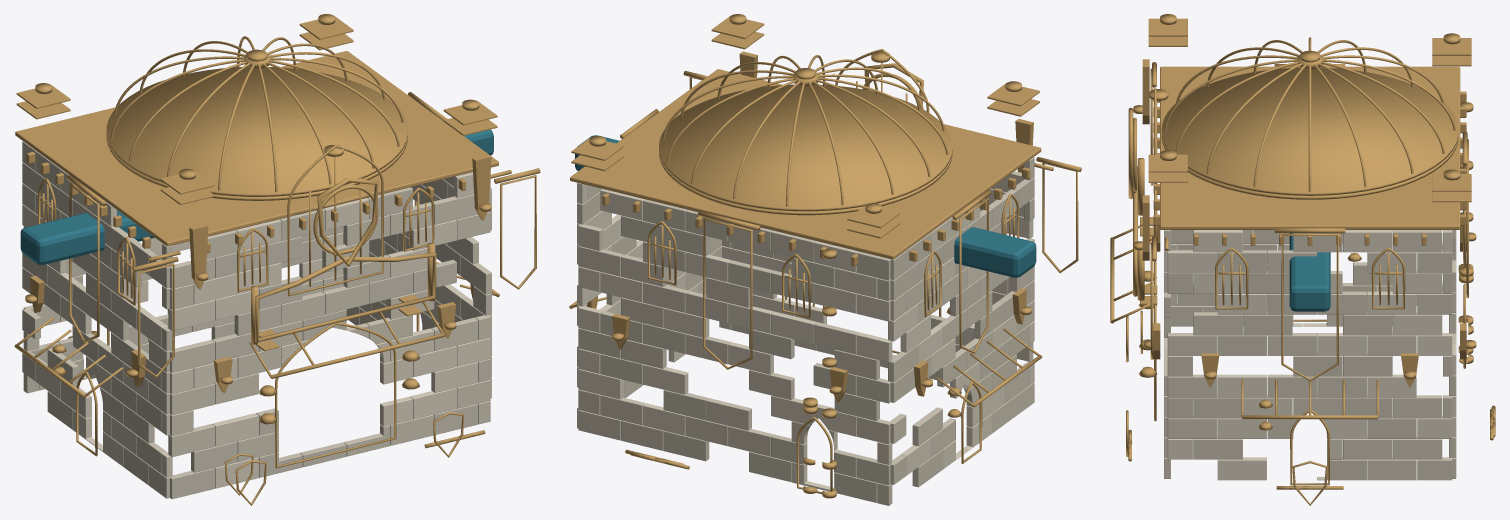
Rendered from Catalog-10.glb.
3 renders of one model, left to right at view 1: azimuth 30°, elevation 25°; view 2: azimuth 150°, elevation 25°; view 3: azimuth 270°, elevation 25°, orthographic. The views are drawn at different scales.
Parts seen in each view (by area): view 1: Aged Gold (×3), Limestone Block Tone 2, Limestone Block Tone 4, Limestone Block Tone 1, Teal Enamel Roof; view 2: Aged Gold (×3), Limestone Block Tone 2, Limestone Block Tone 1, Limestone Block Tone 4, Teal Enamel Roof; view 3: Aged Gold (×3), Limestone Block Tone 2, Limestone Block Tone 4, Limestone Block Tone 1, Teal Enamel Roof.
Boxes of the visible parts, left/top/right/bottom form: Aged Gold (×3): left=14, top=14, right=540, bottom=505; Limestone Block Tone 2: left=22, top=183, right=491, bottom=498; Limestone Block Tone 4: left=22, top=169, right=491, bottom=488; Limestone Block Tone 1: left=22, top=141, right=491, bottom=499; Teal Enamel Roof: left=20, top=129, right=493, bottom=264; Aged Gold (×3): left=569, top=14, right=1081, bottom=498; Limestone Block Tone 2: left=577, top=157, right=1034, bottom=464; Limestone Block Tone 1: left=577, top=178, right=1034, bottom=505; Limestone Block Tone 4: left=577, top=182, right=1034, bottom=491; Teal Enamel Roof: left=575, top=135, right=1036, bottom=277; Aged Gold (×3): left=1110, top=14, right=1495, bottom=505; Limestone Block Tone 2: left=1164, top=230, right=1456, bottom=480; Limestone Block Tone 4: left=1164, top=230, right=1456, bottom=480; Limestone Block Tone 1: left=1164, top=233, right=1456, bottom=480; Teal Enamel Roof: left=1289, top=233, right=1330, bottom=311.
Size of the model in its own units: 14.6 by 10.99 by 10.81.
